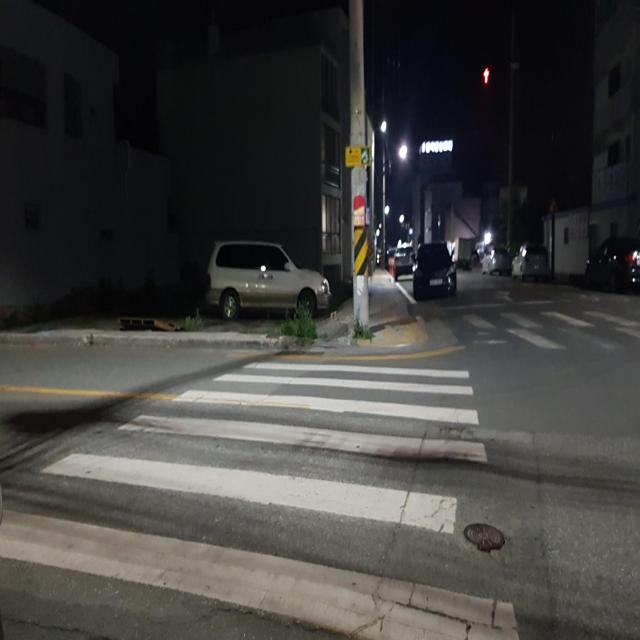횡단보도: (0, 356, 523, 640), (449, 305, 640, 350)
